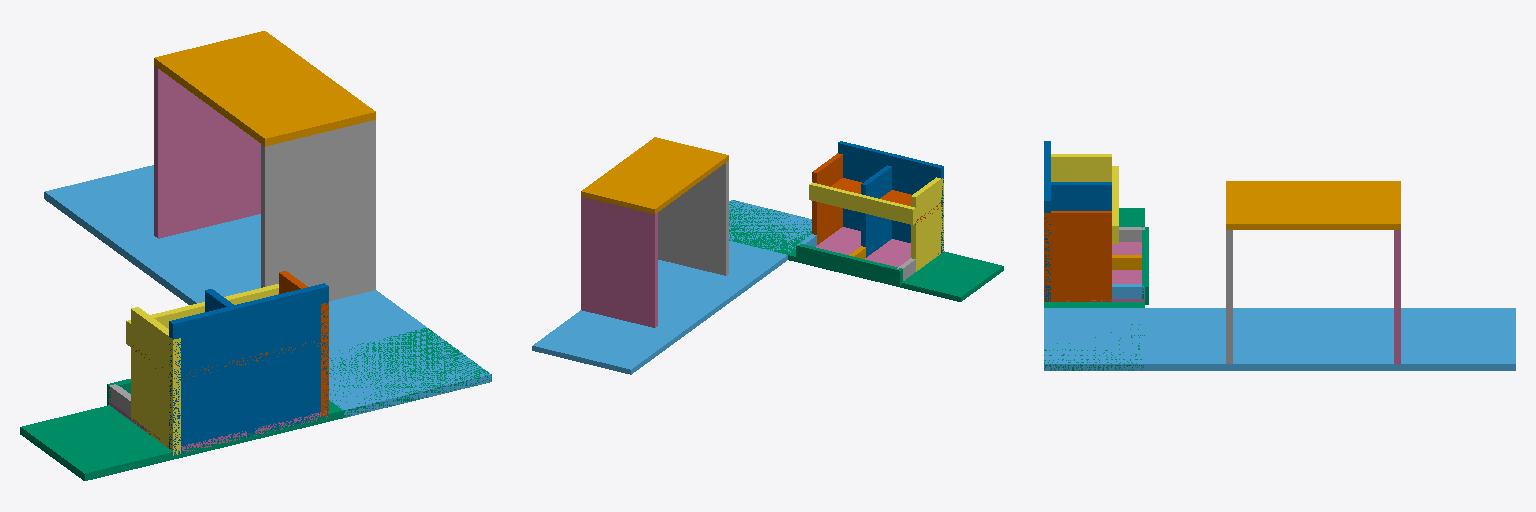
robot.urdf — industrial:
<robot name="industrial">
  <link name="world"/>
  <link name="front_table">
    <visual>
      <geometry>
        <box size="0.2 0.7 0.01"/>
      </geometry>
      <origin xyz="0.1875 -0.025 0.175" rpy="0 0 0"/>
    </visual>
    <collision>
    <origin xyz="0.1875 -0.025 0.175" rpy="0 0 0"/>
      <geometry>
        <box size="0.2 0.7 0.01"/>
      </geometry>
    </collision>
  </link>
  <joint name="front_table_joint" type="fixed">
    <parent link="world"/>
    <child link="front_table"/>
    <origin xyz="0.1875 -0.025 0.175" rpy="0 0 0"/>
  </joint>
  <link name="side_table">
    <visual>
      <geometry>
        <box size="0.55 0.15 0.01"/>
      </geometry>
      <origin xyz="0.1 -0.1625 0.175" rpy="0 0 0"/>
    </visual>
    <collision>
    <origin xyz="0.1 -0.1625 0.175" rpy="0 0 0"/>
      <geometry>
        <box size="0.55 0.15 0.01"/>
      </geometry>
    </collision>
  </link>
  <joint name="side_table_joint" type="fixed">
    <parent link="world"/>
    <child link="side_table"/>
    <origin xyz="0.1 -0.1625 0.175" rpy="0 0 0"/>
  </joint>
  <link name="bin_wall1">
    <visual>
      <geometry>
        <box size="0.01 0.1 0.15"/>
      </geometry>
      <origin xyz="0.025 -0.175 0.2125" rpy="0 0 0"/>
    </visual>
    <collision>
    <origin xyz="0.025 -0.175 0.2125" rpy="0 0 0"/>
      <geometry>
        <box size="0.01 0.1 0.15"/>
      </geometry>
    </collision>
  </link>
  <joint name="bin_wall1_joint" type="fixed">
    <parent link="world"/>
    <child link="bin_wall1"/>
    <origin xyz="0.025 -0.175 0.2125" rpy="0 0 0"/>
  </joint>
  <link name="bin_wall2">
    <visual>
      <geometry>
        <box size="0.01 0.1 0.15"/>
      </geometry>
      <origin xyz="0.075 -0.175 0.2125" rpy="0 0 0"/>
    </visual>
    <collision>
    <origin xyz="0.075 -0.175 0.2125" rpy="0 0 0"/>
      <geometry>
        <box size="0.01 0.1 0.15"/>
      </geometry>
    </collision>
  </link>
  <joint name="bin_wall2_joint" type="fixed">
    <parent link="world"/>
    <child link="bin_wall2"/>
    <origin xyz="0.075 -0.175 0.2125" rpy="0 0 0"/>
  </joint>
  <link name="bin_wall3">
    <visual>
      <geometry>
        <box size="0.01 0.1 0.15"/>
      </geometry>
      <origin xyz="0.125 -0.175 0.2125" rpy="0 0 0"/>
    </visual>
    <collision>
    <origin xyz="0.125 -0.175 0.2125" rpy="0 0 0"/>
      <geometry>
        <box size="0.01 0.1 0.15"/>
      </geometry>
    </collision>
  </link>
  <joint name="bin_wall3_joint" type="fixed">
    <parent link="world"/>
    <child link="bin_wall3"/>
    <origin xyz="0.125 -0.175 0.2125" rpy="0 0 0"/>
  </joint>
  <link name="bin_bottom">
    <visual>
      <geometry>
        <box size="0.21 0.15 0.01"/>
      </geometry>
      <origin xyz="0.075 -0.1625 0.1775" rpy="0 0 0"/>
    </visual>
    <collision>
    <origin xyz="0.075 -0.1625 0.1775" rpy="0 0 0"/>
      <geometry>
        <box size="0.21 0.15 0.01"/>
      </geometry>
    </collision>
  </link>
  <joint name="bin_bottom_joint" type="fixed">
    <parent link="world"/>
    <child link="bin_bottom"/>
    <origin xyz="0.075 -0.1625 0.1775" rpy="0 0 0"/>
  </joint>
  <link name="bin_short_wall1">
    <visual>
      <geometry>
        <box size="0.01 0.05 0.03"/>
      </geometry>
      <origin xyz="0.025 -0.1375 0.1825" rpy="0 0 0"/>
    </visual>
    <collision>
    <origin xyz="0.025 -0.1375 0.1825" rpy="0 0 0"/>
      <geometry>
        <box size="0.01 0.05 0.03"/>
      </geometry>
    </collision>
  </link>
  <joint name="bin_short_wall1_joint" type="fixed">
    <parent link="world"/>
    <child link="bin_short_wall1"/>
    <origin xyz="0.025 -0.1375 0.1825" rpy="0 0 0"/>
  </joint>
  <link name="bin_short_wall2">
    <visual>
      <geometry>
        <box size="0.01 0.05 0.03"/>
      </geometry>
      <origin xyz="0.075 -0.1375 0.1825" rpy="0 0 0"/>
    </visual>
    <collision>
    <origin xyz="0.075 -0.1375 0.1825" rpy="0 0 0"/>
      <geometry>
        <box size="0.01 0.05 0.03"/>
      </geometry>
    </collision>
  </link>
  <joint name="bin_short_wall2_joint" type="fixed">
    <parent link="world"/>
    <child link="bin_short_wall2"/>
    <origin xyz="0.075 -0.1375 0.1825" rpy="0 0 0"/>
  </joint>
  <link name="bin_short_wall3">
    <visual>
      <geometry>
        <box size="0.01 0.05 0.03"/>
      </geometry>
      <origin xyz="0.125 -0.1375 0.1825" rpy="0 0 0"/>
    </visual>
    <collision>
    <origin xyz="0.125 -0.1375 0.1825" rpy="0 0 0"/>
      <geometry>
        <box size="0.01 0.05 0.03"/>
      </geometry>
    </collision>
  </link>
  <joint name="bin_short_wall3_joint" type="fixed">
    <parent link="world"/>
    <child link="bin_short_wall3"/>
    <origin xyz="0.125 -0.1375 0.1825" rpy="0 0 0"/>
  </joint>
  <link name="bin_short_front_wall">
    <visual>
      <geometry>
        <box size="0.21 0.01 0.03"/>
      </geometry>
      <origin xyz="0.075 -0.125 0.1825" rpy="0 0 0"/>
    </visual>
    <collision>
    <origin xyz="0.075 -0.125 0.1825" rpy="0 0 0"/>
      <geometry>
        <box size="0.21 0.01 0.03"/>
      </geometry>
    </collision>
  </link>
  <joint name="bin_short_front_wall_joint" type="fixed">
    <parent link="world"/>
    <child link="bin_short_front_wall"/>
    <origin xyz="0.075 -0.125 0.1825" rpy="0 0 0"/>
  </joint>
  <link name="bin_short_front_wall2">
    <visual>
      <geometry>
        <box size="0.21 0.01 0.03"/>
      </geometry>
      <origin xyz="0.075 -0.1475 0.2325" rpy="0 0 0"/>
    </visual>
    <collision>
    <origin xyz="0.075 -0.1475 0.2325" rpy="0 0 0"/>
      <geometry>
        <box size="0.21 0.01 0.03"/>
      </geometry>
    </collision>
  </link>
  <joint name="bin_short_front_wall2_joint" type="fixed">
    <parent link="world"/>
    <child link="bin_short_front_wall2"/>
    <origin xyz="0.075 -0.1475 0.2325" rpy="0 0 0"/>
  </joint>
  <link name="bin_back_wall">
    <visual>
      <geometry>
        <box size="0.21 0.01 0.17"/>
      </geometry>
      <origin xyz="0.075 -0.1975 0.2175" rpy="0 0 0"/>
    </visual>
    <collision>
    <origin xyz="0.075 -0.1975 0.2175" rpy="0 0 0"/>
      <geometry>
        <box size="0.21 0.01 0.17"/>
      </geometry>
    </collision>
  </link>
  <joint name="bin_back_wall_joint" type="fixed">
    <parent link="world"/>
    <child link="bin_back_wall"/>
    <origin xyz="0.075 -0.1975 0.2175" rpy="0 0 0"/>
  </joint>
  <link name="bin_shelf">
    <visual>
      <geometry>
        <box size="0.21 0.1 0.01"/>
      </geometry>
      <origin xyz="0.075 -0.175 0.225" rpy="0 0 0"/>
    </visual>
    <collision>
    <origin xyz="0.075 -0.175 0.225" rpy="0 0 0"/>
      <geometry>
        <box size="0.21 0.1 0.01"/>
      </geometry>
    </collision>
  </link>
  <joint name="bin_shelf_joint" type="fixed">
    <parent link="world"/>
    <child link="bin_shelf"/>
    <origin xyz="0.075 -0.175 0.225" rpy="0 0 0"/>
  </joint>
  <link name="oven_left">
    <visual>
      <geometry>
        <box size="0.15 0.01 0.225"/>
      </geometry>
      <origin xyz="0.2 0.0625 0.23125" rpy="0 0 0"/>
    </visual>
    <collision>
    <origin xyz="0.2 0.0625 0.23125" rpy="0 0 0"/>
      <geometry>
        <box size="0.15 0.01 0.225"/>
      </geometry>
    </collision>
  </link>
  <joint name="oven_left_joint" type="fixed">
    <parent link="world"/>
    <child link="oven_left"/>
    <origin xyz="0.2 0.0625 0.23125" rpy="0 0 0"/>
  </joint>
  <link name="oven_right">
    <visual>
      <geometry>
        <box size="0.15 0.01 0.225"/>
      </geometry>
      <origin xyz="0.2 -0.0625 0.23125" rpy="0 0 0"/>
    </visual>
    <collision>
    <origin xyz="0.2 -0.0625 0.23125" rpy="0 0 0"/>
      <geometry>
        <box size="0.15 0.01 0.225"/>
      </geometry>
    </collision>
  </link>
  <joint name="oven_right_joint" type="fixed">
    <parent link="world"/>
    <child link="oven_right"/>
    <origin xyz="0.2 -0.0625 0.23125" rpy="0 0 0"/>
  </joint>
  <link name="oven_top">
    <visual>
      <geometry>
        <box size="0.15 0.26 0.01"/>
      </geometry>
      <origin xyz="0.2 -0.0 0.29" rpy="0 0 0"/>
    </visual>
    <collision>
    <origin xyz="0.2 -0.0 0.29" rpy="0 0 0"/>
      <geometry>
        <box size="0.15 0.26 0.01"/>
      </geometry>
    </collision>
  </link>
  <joint name="oven_top_joint" type="fixed">
    <parent link="world"/>
    <child link="oven_top"/>
    <origin xyz="0.2 -0.0 0.29" rpy="0 0 0"/>
  </joint>
</robot>

--- What the picture shows (computed from the rendered views, not written in the file) ---
Views: 3 orthographic renders of the robot side by side, from view 1: azimuth 30°, elevation 25°; view 2: azimuth 150°, elevation 25°; view 3: azimuth 270°, elevation 25°.
Model industrial with 17 links and 16 joints (16 fixed), rooted at world, posed all joints at 0.
Visible links, largest first — view 1: front_table, bin_back_wall, oven_right, oven_top, oven_left, side_table, bin_wall1, bin_short_front_wall2, bin_wall3, bin_wall2, bin_bottom; view 2: front_table, oven_left, oven_top, oven_right, side_table, bin_back_wall, bin_wall1, bin_short_front_wall2, bin_short_front_wall, bin_wall2, bin_wall3, bin_bottom (+1 smaller); view 3: front_table, oven_top, bin_wall3, bin_wall2, bin_wall1, side_table, oven_left, oven_right, bin_bottom, bin_back_wall, bin_short_front_wall2.
Boxes of the visible links, bbox=[...] form: front_table: bbox=[44, 165, 491, 417]; bin_back_wall: bbox=[169, 283, 328, 455]; oven_right: bbox=[261, 120, 375, 300]; oven_top: bbox=[154, 31, 375, 146]; oven_left: bbox=[154, 66, 260, 238]; side_table: bbox=[20, 328, 491, 480]; bin_wall1: bbox=[131, 307, 180, 455]; bin_short_front_wall2: bbox=[126, 284, 278, 346]; bin_wall3: bbox=[279, 271, 328, 417]; bin_wall2: bbox=[205, 289, 254, 437]; bin_bottom: bbox=[109, 401, 328, 454]; front_table: bbox=[532, 200, 811, 374]; oven_left: bbox=[581, 197, 657, 327]; oven_top: bbox=[581, 137, 728, 213]; oven_right: bbox=[658, 161, 728, 275]; side_table: bbox=[729, 200, 1003, 301]; bin_back_wall: bbox=[838, 141, 943, 252]; bin_wall1: bbox=[911, 177, 943, 271]; bin_short_front_wall2: bbox=[809, 182, 915, 224]; bin_short_front_wall: bbox=[796, 244, 902, 285]; bin_wall2: bbox=[861, 165, 891, 257]; bin_wall3: bbox=[812, 153, 842, 244]; bin_bottom: bbox=[816, 227, 943, 266]; front_table: bbox=[1044, 308, 1515, 370]; oven_top: bbox=[1226, 181, 1400, 229]; bin_wall3: bbox=[1044, 211, 1111, 301]; bin_wall2: bbox=[1051, 182, 1111, 210]; bin_wall1: bbox=[1051, 154, 1111, 181]; side_table: bbox=[1044, 208, 1144, 370]; oven_left: bbox=[1394, 230, 1400, 365]; oven_right: bbox=[1226, 230, 1232, 364]; bin_bottom: bbox=[1067, 242, 1144, 301]; bin_back_wall: bbox=[1044, 141, 1050, 301]; bin_short_front_wall2: bbox=[1112, 166, 1118, 243].
Size in the robot's own frame: 0.55 by 0.7 by 0.24 metres.
Geometry: primitives only (box / cylinder / sphere), no mesh files.